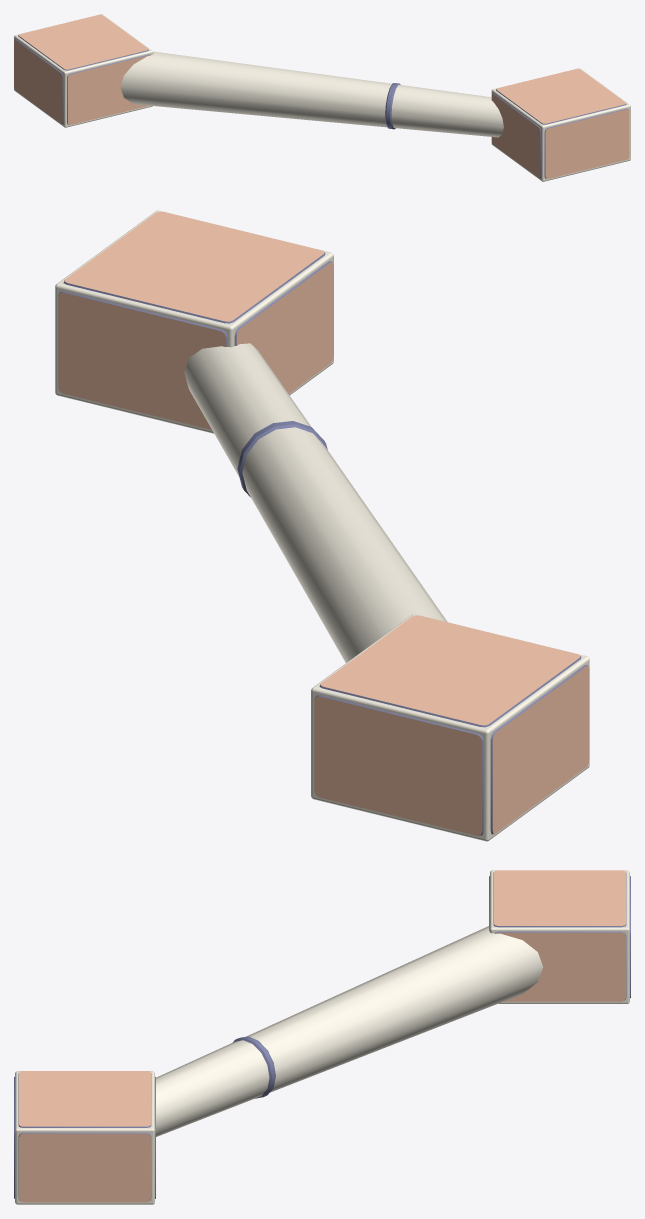
The model's file is R4C_ROD_DIAG_2D_LONG.fbx.
3 views of the same model, one above another, from view 1: azimuth 30°, elevation 25°; view 2: azimuth 150°, elevation 25°; view 3: azimuth 270°, elevation 25° (orthographic). The views are drawn at different scales.
Parts seen in each view (by area): view 1: R4C_ROD_DIAG_2D_LONG; view 2: R4C_ROD_DIAG_2D_LONG; view 3: R4C_ROD_DIAG_2D_LONG.
Boxes of the visible parts, box(x1,y1,x2,y2) form: R4C_ROD_DIAG_2D_LONG: box(14, 14, 630, 181); R4C_ROD_DIAG_2D_LONG: box(55, 210, 589, 841); R4C_ROD_DIAG_2D_LONG: box(14, 870, 630, 1204).
Bounding box in the file's own units: 1.62 × 0.226 × 1.62.
